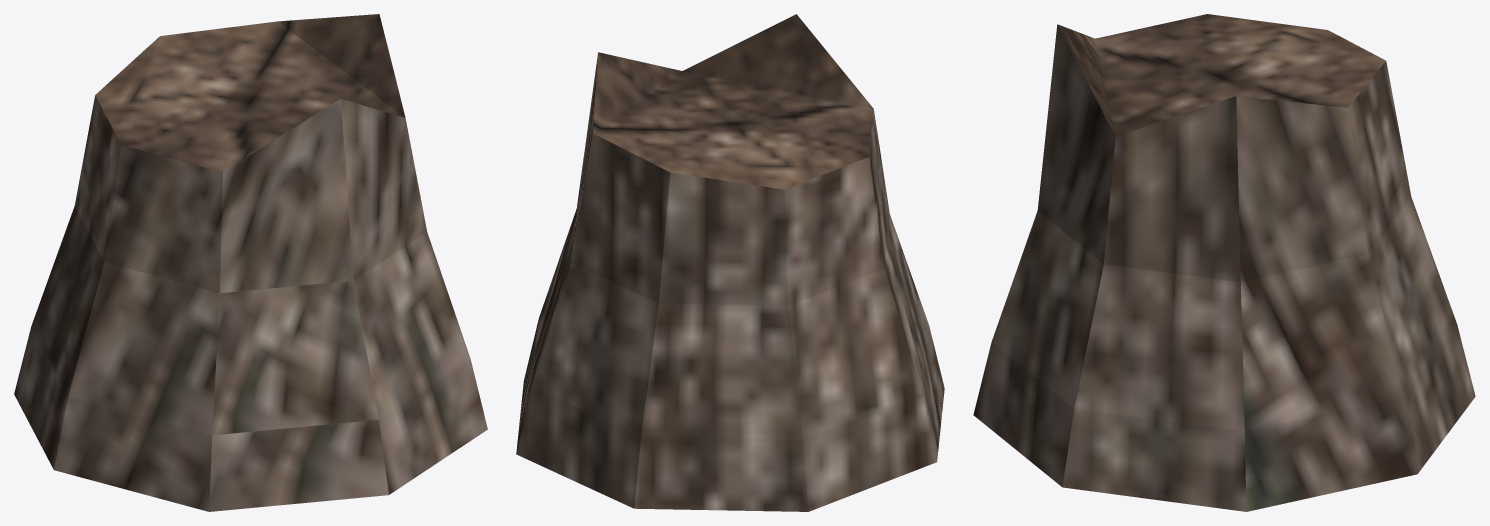
Rendered from Oak_Trunk.fbx.
3 renders of one model, left to right at view 1: azimuth 30°, elevation 25°; view 2: azimuth 150°, elevation 25°; view 3: azimuth 270°, elevation 25°, orthographic. The views are drawn at different scales.
Parts seen in each view (by area): view 1: Tree_Oak_Trunk; view 2: Tree_Oak_Trunk; view 3: Tree_Oak_Trunk.
Part boxes in pixels (x1=…): Tree_Oak_Trunk: x1=14, y1=14, x2=487, y2=511; Tree_Oak_Trunk: x1=516, y1=14, x2=944, y2=511; Tree_Oak_Trunk: x1=973, y1=14, x2=1475, y2=511.
Size of the model in its own units: 272 by 231 by 272.
